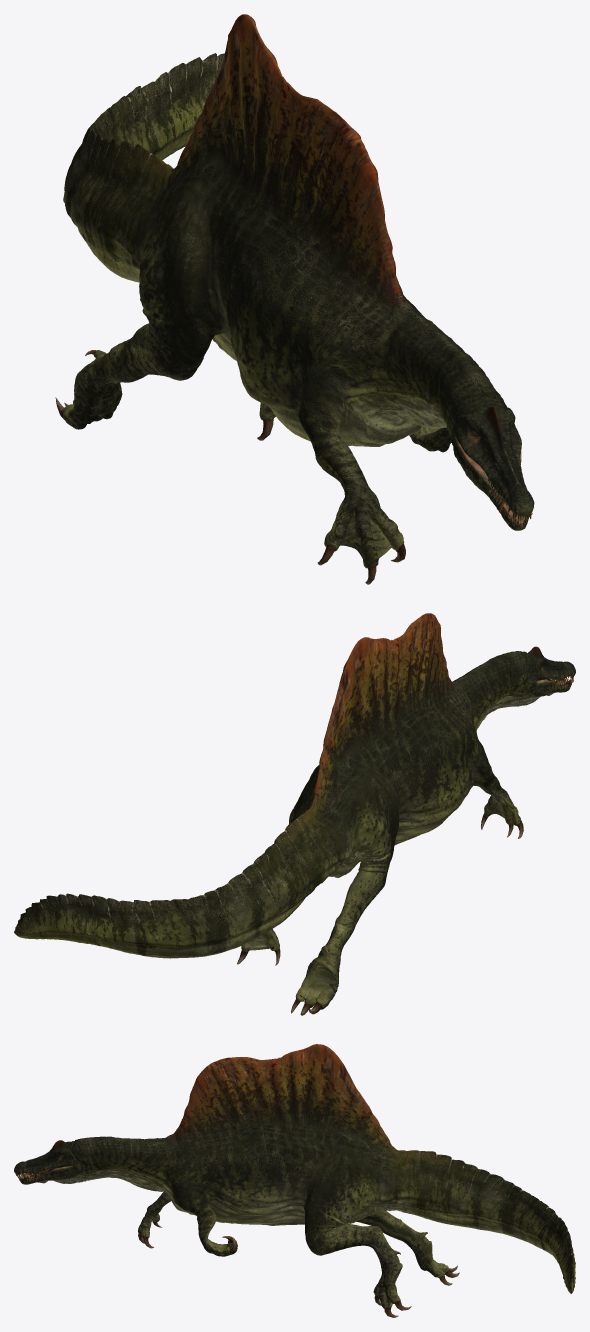
File: spinosaurus.glb
3 views of the same model, one above another, from view 1: azimuth 30°, elevation 25°; view 2: azimuth 150°, elevation 25°; view 3: azimuth 270°, elevation 25° (orthographic). The views are drawn at different scales.
Visible parts, largest first — view 1: spinoA_polySurface1_body_0_9, spinoA_polySurface1_legs_0_6, spinoA_polySurface1_tails_0_10, spinoA_polySurface1_head_0_5, spinoA_polySurface1_head_0_4, spinoA_polySurface1_legs_0_7, bits1_bits_0_12; view 2: spinoA_polySurface1_body_0_9, spinoA_polySurface1_tails_0_10, spinoA_polySurface1_legs_0_6, spinoA_polySurface1_head_0_5, spinoA_polySurface1_legs_0_7, spinoA_polySurface1_head_0_4, bits1_bits_0_12; view 3: spinoA_polySurface1_body_0_9, spinoA_polySurface1_tails_0_10, spinoA_polySurface1_legs_0_7, spinoA_polySurface1_head_0_4, spinoA_polySurface1_legs_0_6, bits1_bits_0_12.
Boxes of the visible parts, x1=… form: spinoA_polySurface1_body_0_9: x1=138, y1=14, x2=489, y2=446; spinoA_polySurface1_legs_0_6: x1=63, y1=175, x2=430, y2=568; spinoA_polySurface1_tails_0_10: x1=63, y1=53, x2=224, y2=282; spinoA_polySurface1_head_0_5: x1=441, y1=371, x2=525, y2=530; spinoA_polySurface1_head_0_4: x1=441, y1=370, x2=534, y2=530; spinoA_polySurface1_legs_0_7: x1=64, y1=174, x2=452, y2=548; bits1_bits_0_12: x1=55, y1=350, x2=532, y2=584; spinoA_polySurface1_body_0_9: x1=290, y1=613, x2=515, y2=877; spinoA_polySurface1_tails_0_10: x1=14, y1=809, x2=345, y2=958; spinoA_polySurface1_legs_0_6: x1=295, y1=754, x2=520, y2=1008; spinoA_polySurface1_head_0_5: x1=497, y1=647, x2=575, y2=708; spinoA_polySurface1_legs_0_7: x1=241, y1=760, x2=502, y2=1009; spinoA_polySurface1_head_0_4: x1=505, y1=646, x2=567, y2=705; bits1_bits_0_12: x1=237, y1=675, x2=573, y2=1015; spinoA_polySurface1_body_0_9: x1=93, y1=1044, x2=399, y2=1225; spinoA_polySurface1_tails_0_10: x1=383, y1=1150, x2=575, y2=1293; spinoA_polySurface1_legs_0_7: x1=178, y1=1139, x2=448, y2=1308; spinoA_polySurface1_head_0_4: x1=14, y1=1137, x2=108, y2=1184; spinoA_polySurface1_legs_0_6: x1=138, y1=1192, x2=448, y2=1277; bits1_bits_0_12: x1=15, y1=1168, x2=459, y2=1317.
Size of the model in its own units: 3.37 by 4.07 by 8.44.
6 materials, 6 textured.
